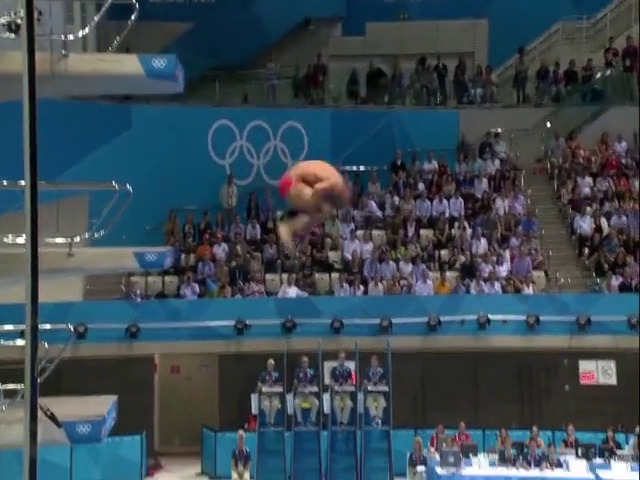diver: (277, 160, 354, 258)
